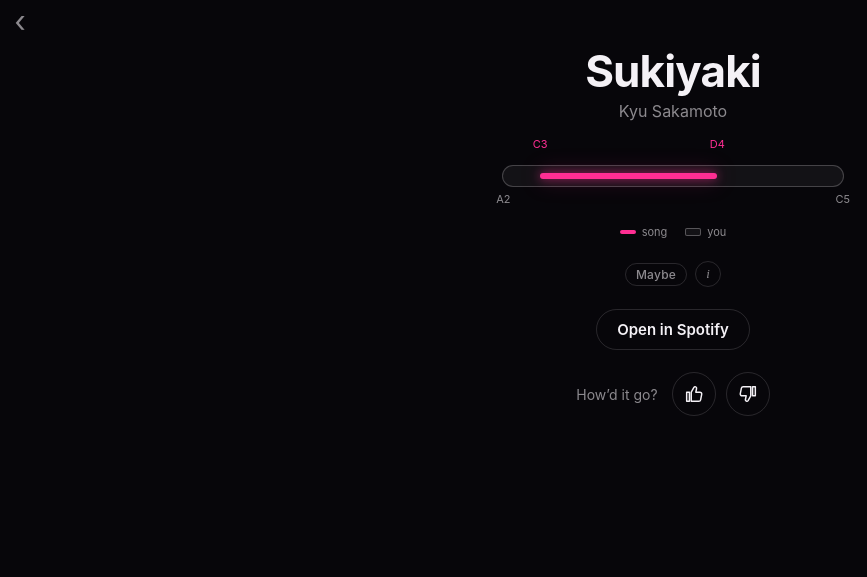
Test case: Maybe group › song detail says Maybe instead of a difficulty, and the info button says the range is an estimate
The width and height of the screenshot is (867, 577).
Expected: the text "Maybe" is shown, [625,263,687,286]
Click the button named "Where this came from": (708, 274) [695,261,721,287]
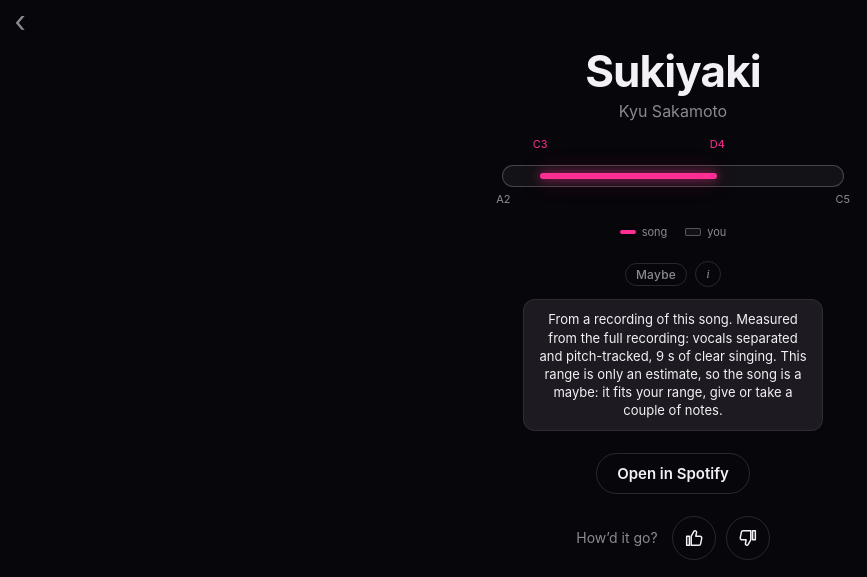
Expected: the tooltip shows "9 s of clear singing. This range is only an estimate", [539,311,807,418]
